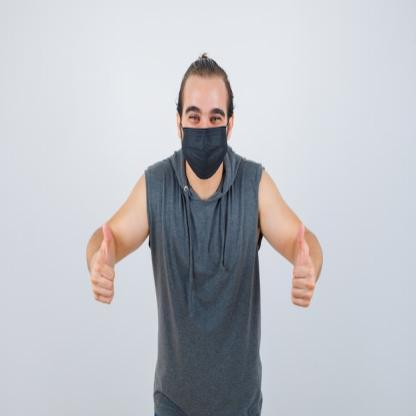thumb_up: (87, 217, 119, 309), (287, 224, 318, 315)
